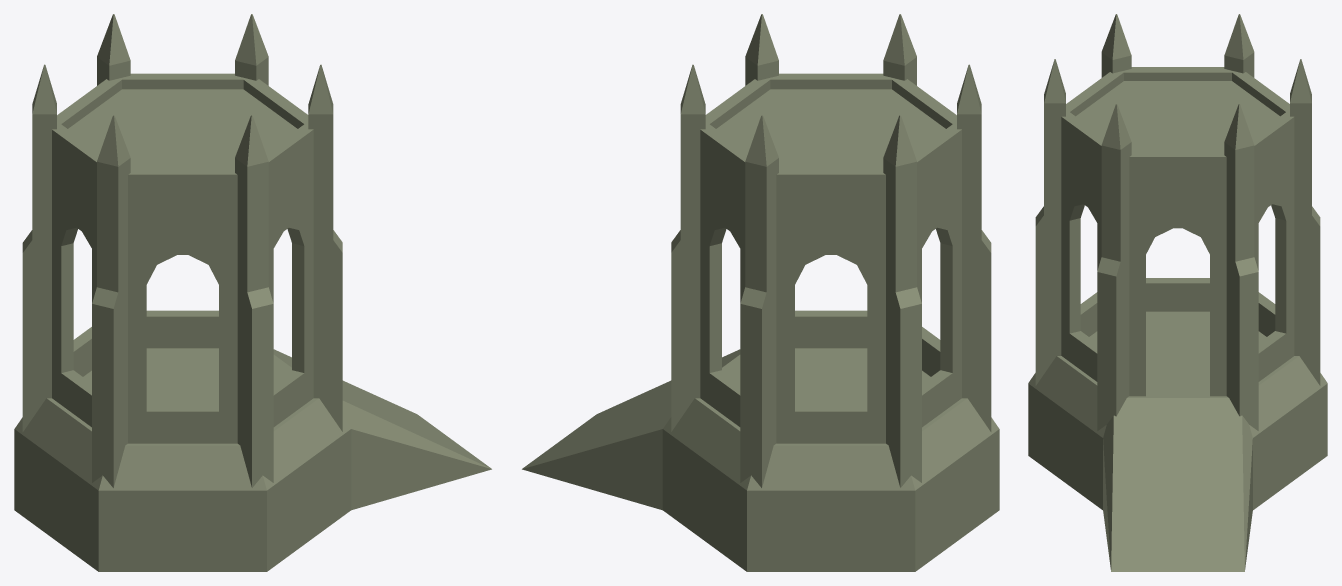
The model's file is gazebo.glb.
3 views of the same model, side by side, from view 1: azimuth 30°, elevation 25°; view 2: azimuth 150°, elevation 25°; view 3: azimuth 270°, elevation 25° (orthographic). The views are drawn at different scales.
Parts seen in each view (by area): view 1: Cylinder.315; view 2: Cylinder.315; view 3: Cylinder.315.
Part boxes in pixels (left/top/right/bottom): Cylinder.315: left=14, top=14, right=491, bottom=571; Cylinder.315: left=522, top=14, right=999, bottom=571; Cylinder.315: left=1028, top=14, right=1327, bottom=571.
Bounding box in the file's own units: 0.2409 × 0.2574 × 0.1763.
